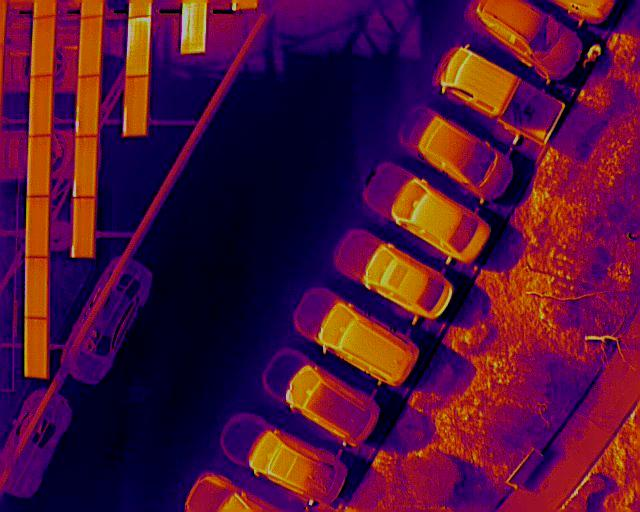No-Anomaly: (29, 17, 56, 75), (26, 135, 51, 197), (76, 76, 101, 138), (71, 196, 95, 259), (74, 135, 98, 198), (29, 75, 53, 137), (25, 257, 48, 320), (26, 196, 49, 257), (79, 18, 102, 78), (25, 320, 47, 378)
Unclassified: (126, 15, 150, 77), (124, 76, 148, 136), (179, 1, 205, 53)
